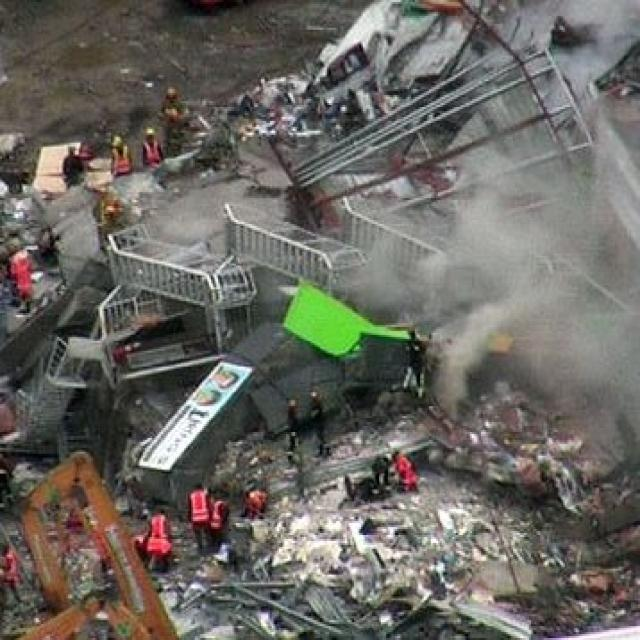collapsed_building: (9, 158, 509, 500)
